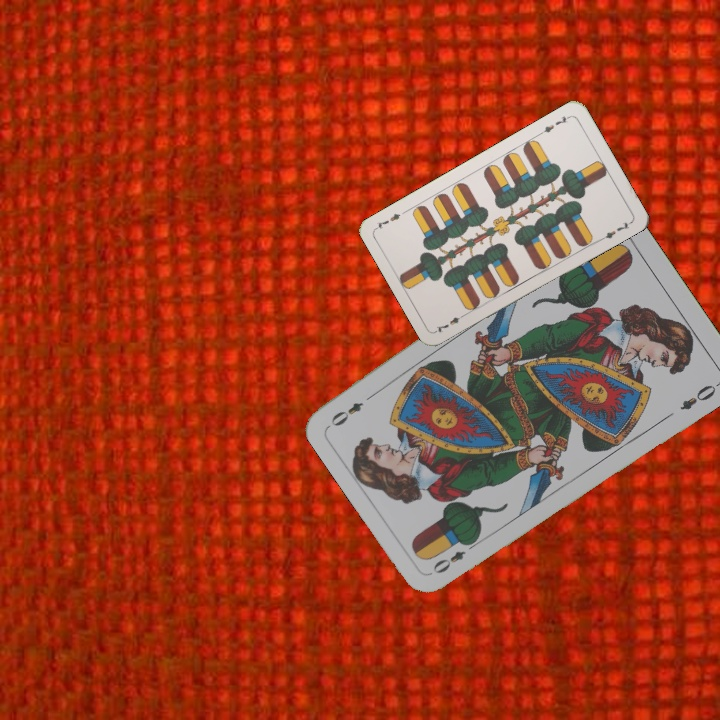E7: (432, 309, 469, 335), (536, 112, 573, 137)
EO: (428, 536, 480, 577)
